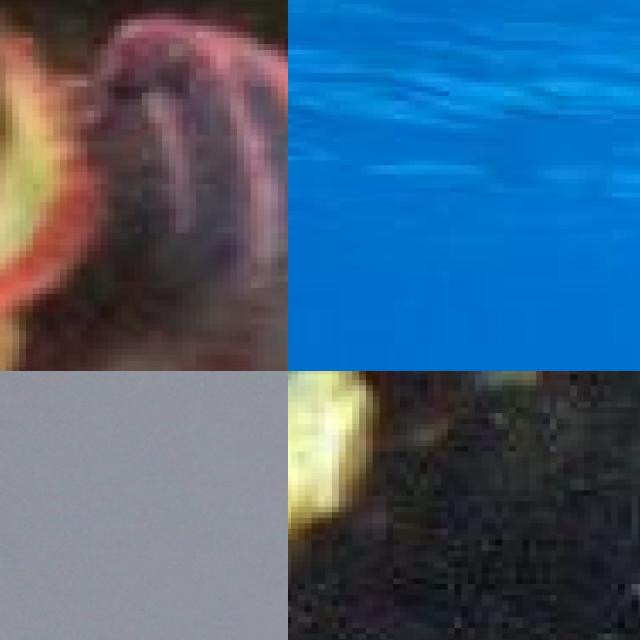fish: (0, 0, 288, 371), (0, 371, 288, 640)
